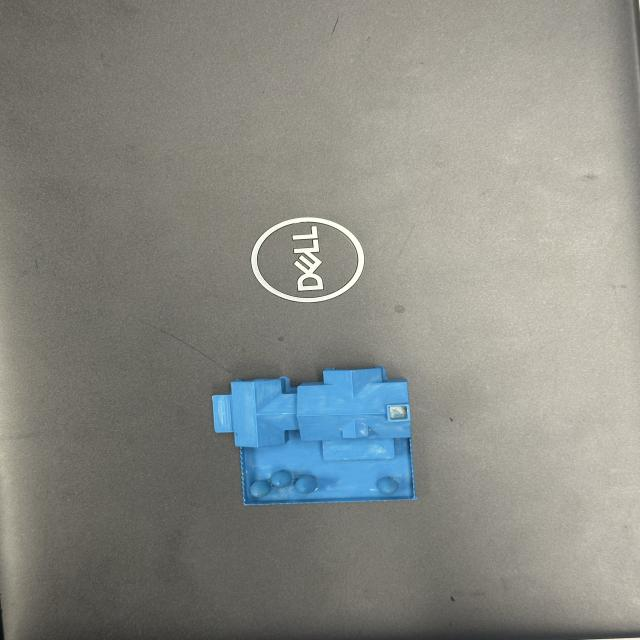house: (209, 364, 420, 506)
